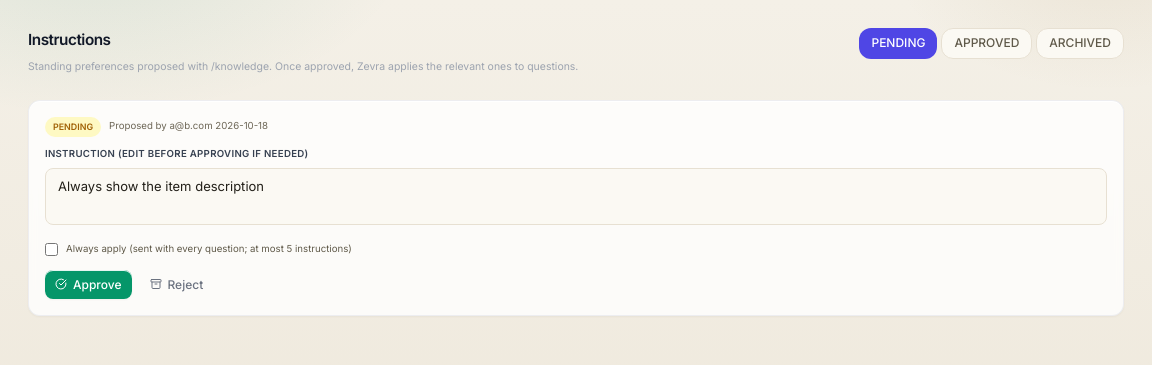
Test: Instructions review › shows the server error when approval fails
The width and height of the screenshot is (1152, 365).
Click the button "Approve" at (88, 284), box [45,270,132,299]
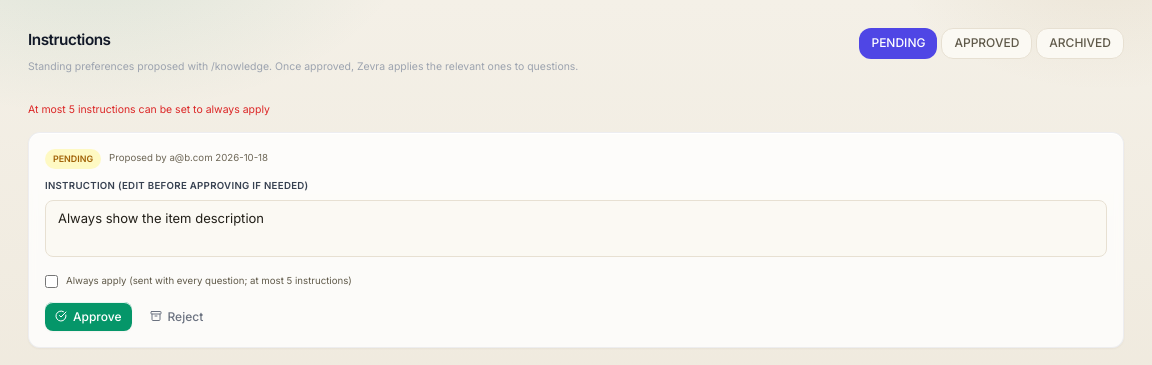
Expected: the message shows "At most 5", [28,103,270,116]
